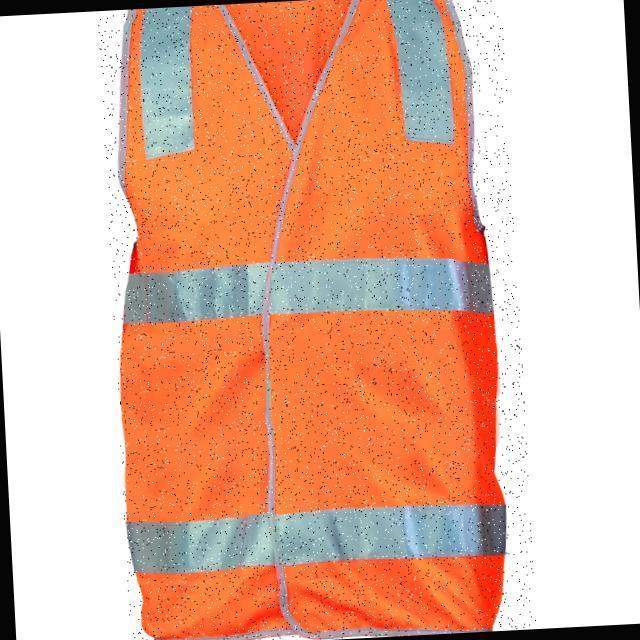vest: (98, 0, 536, 640)
